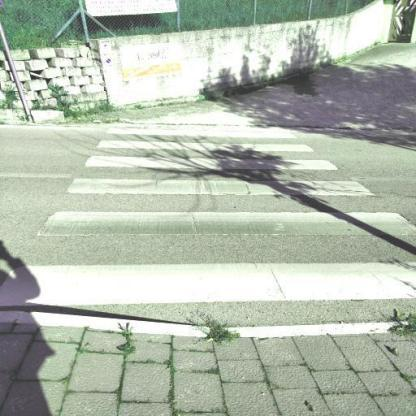crosswalk: (2, 202, 416, 312), (81, 138, 345, 176)
